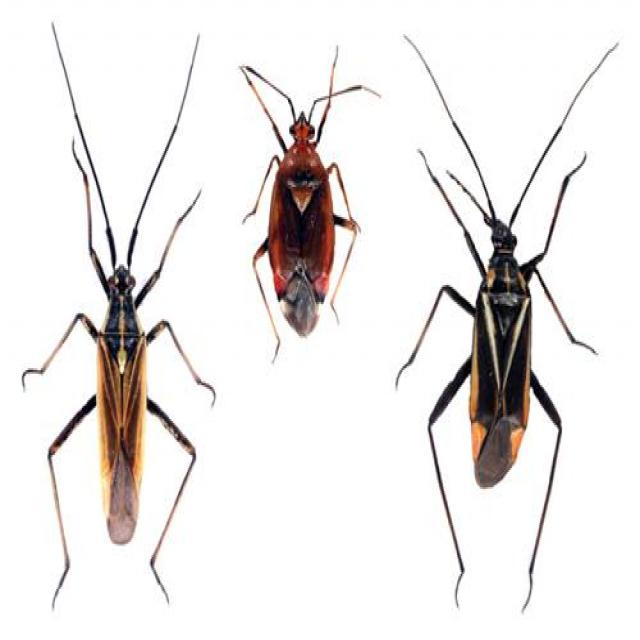Miridae-Adult-: (395, 28, 618, 610), (14, 15, 220, 598), (227, 41, 394, 373)
